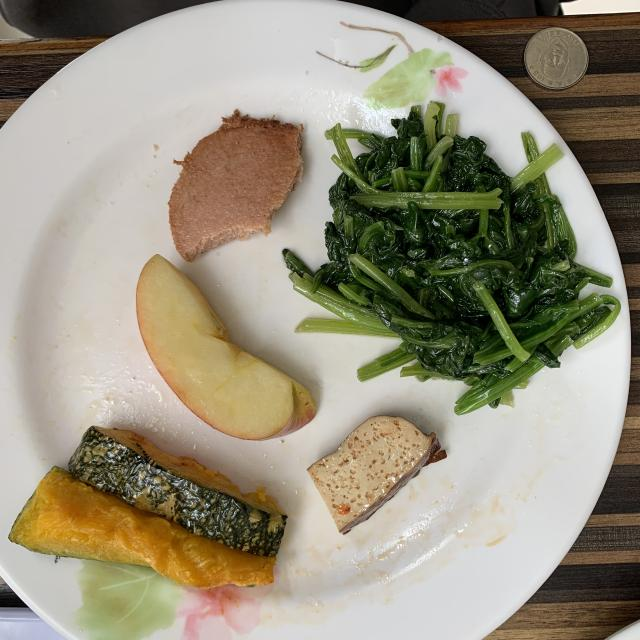Spam: (169, 110, 302, 261)
apple -sliced-: (136, 255, 316, 440)
coin: (524, 28, 589, 90)
firm tofu: (308, 415, 445, 534)
mustard greens: (282, 102, 621, 415)
pumpkin: (9, 426, 286, 589)
